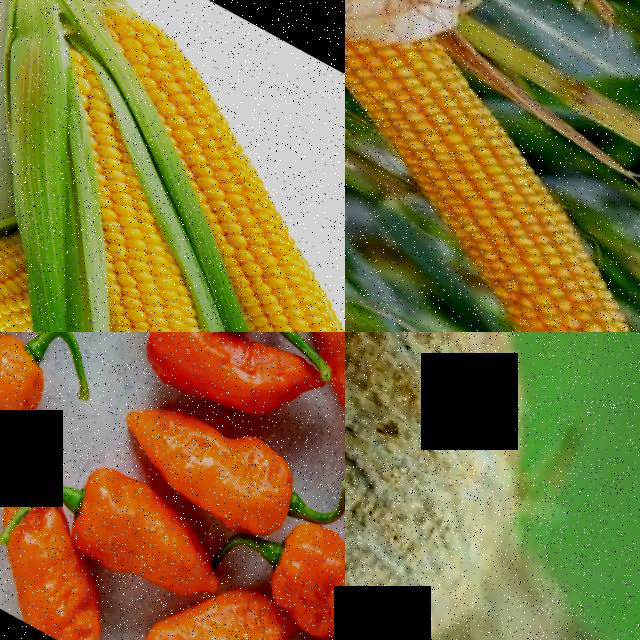chilli: (84, 359, 314, 555), (34, 442, 233, 620), (94, 332, 330, 450), (230, 494, 345, 640), (215, 617, 345, 640)
coconut: (345, 332, 640, 640)
corn: (40, 0, 345, 291), (0, 69, 307, 332), (345, 0, 577, 225), (373, 138, 640, 332), (196, 233, 345, 332), (0, 194, 55, 332)
